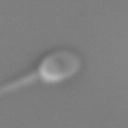normal: (1, 69, 38, 94)
